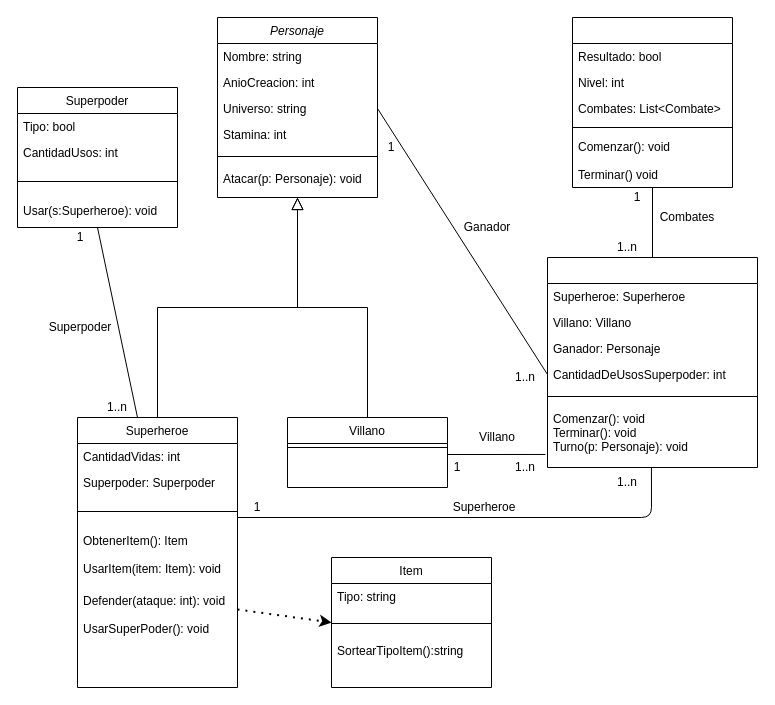
Some shapes in this 775 by 705 pixel diagram are drawn without their labels. Each missing label, with the box of its shape:
Combate: (546, 256, 758, 468)
Juego: (572, 16, 732, 188)
